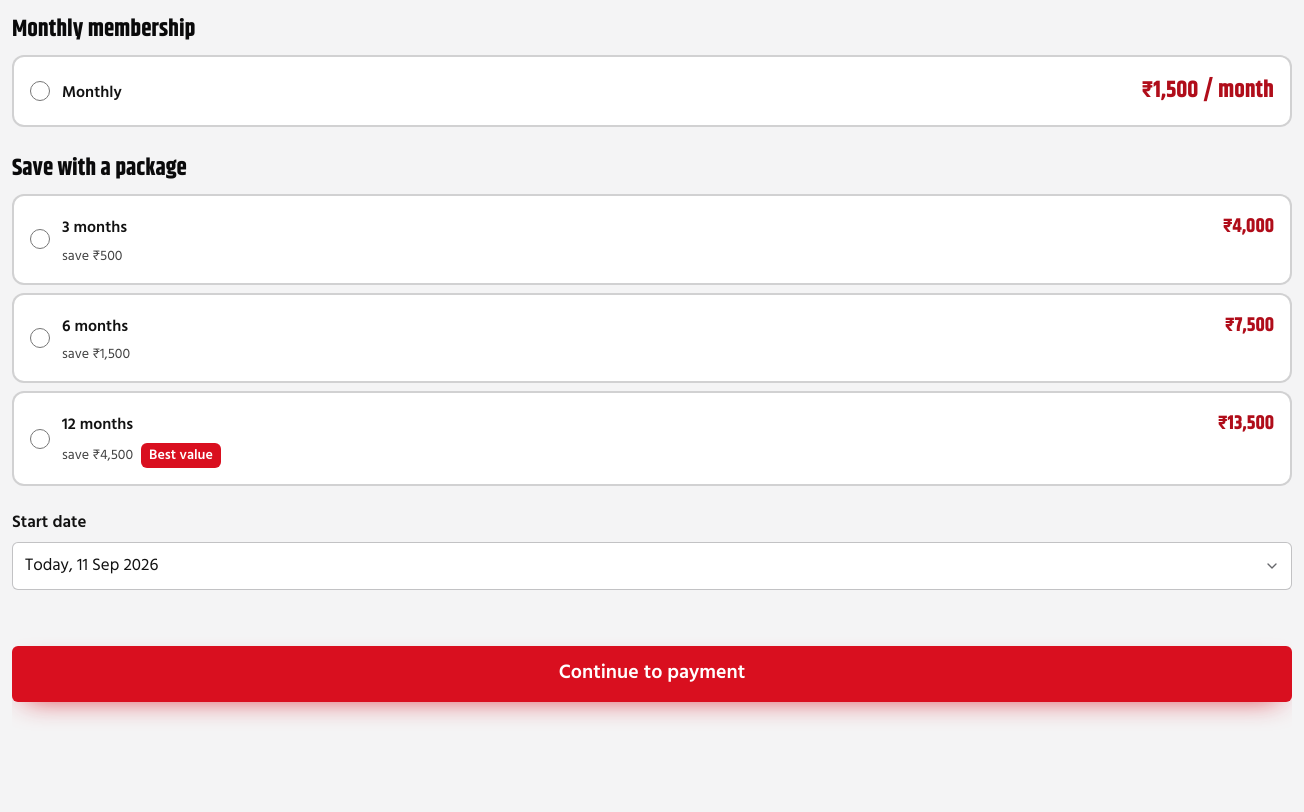
PlanStep › previews the end date by the membership rules as plan and start date change
Click the radio button labelled "Monthly ₹1,500 / month".
click(40, 91)  # box [30,81,50,101]
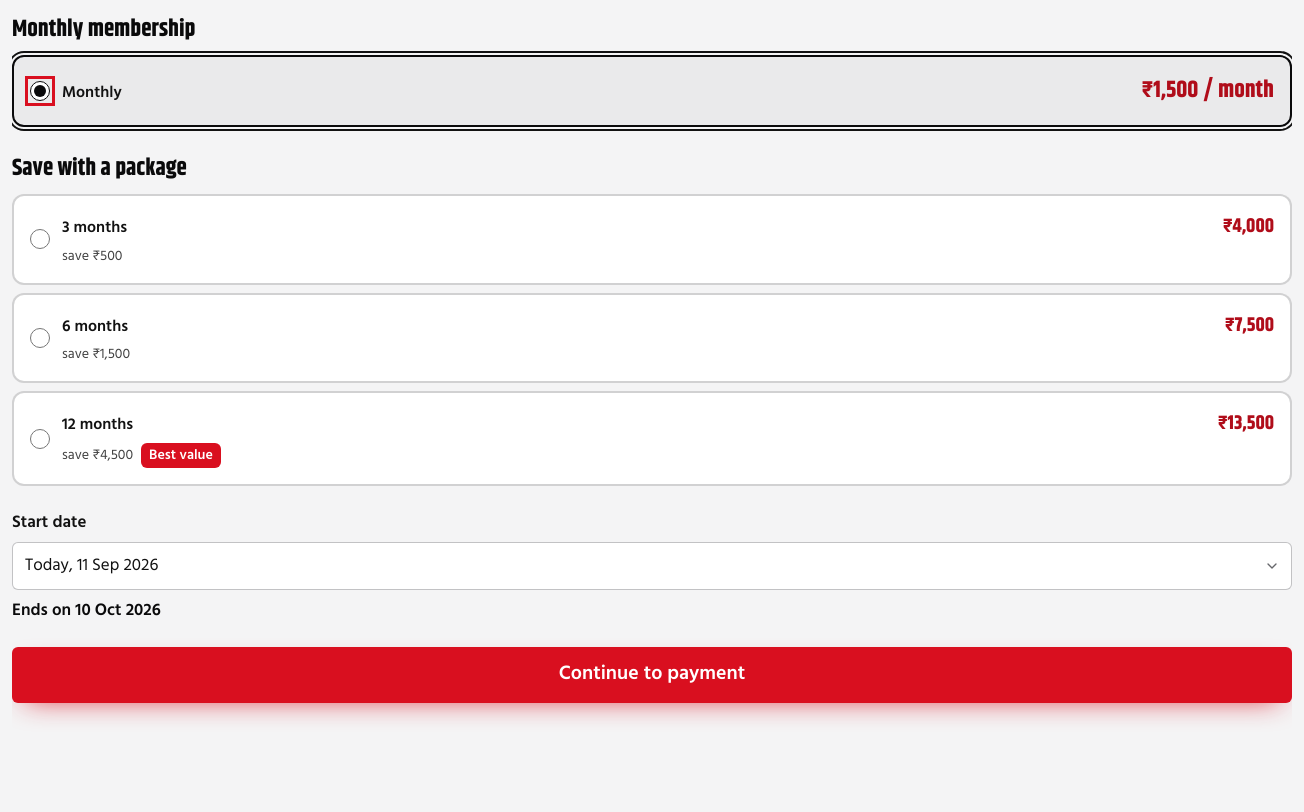
Expected: the text "Ends on 10 Oct 2026" is shown, [12,596,161,624]
Click the radio button labelled "3 months ₹4,000 save ₹500".
click(40, 239)  # box [30,229,50,249]
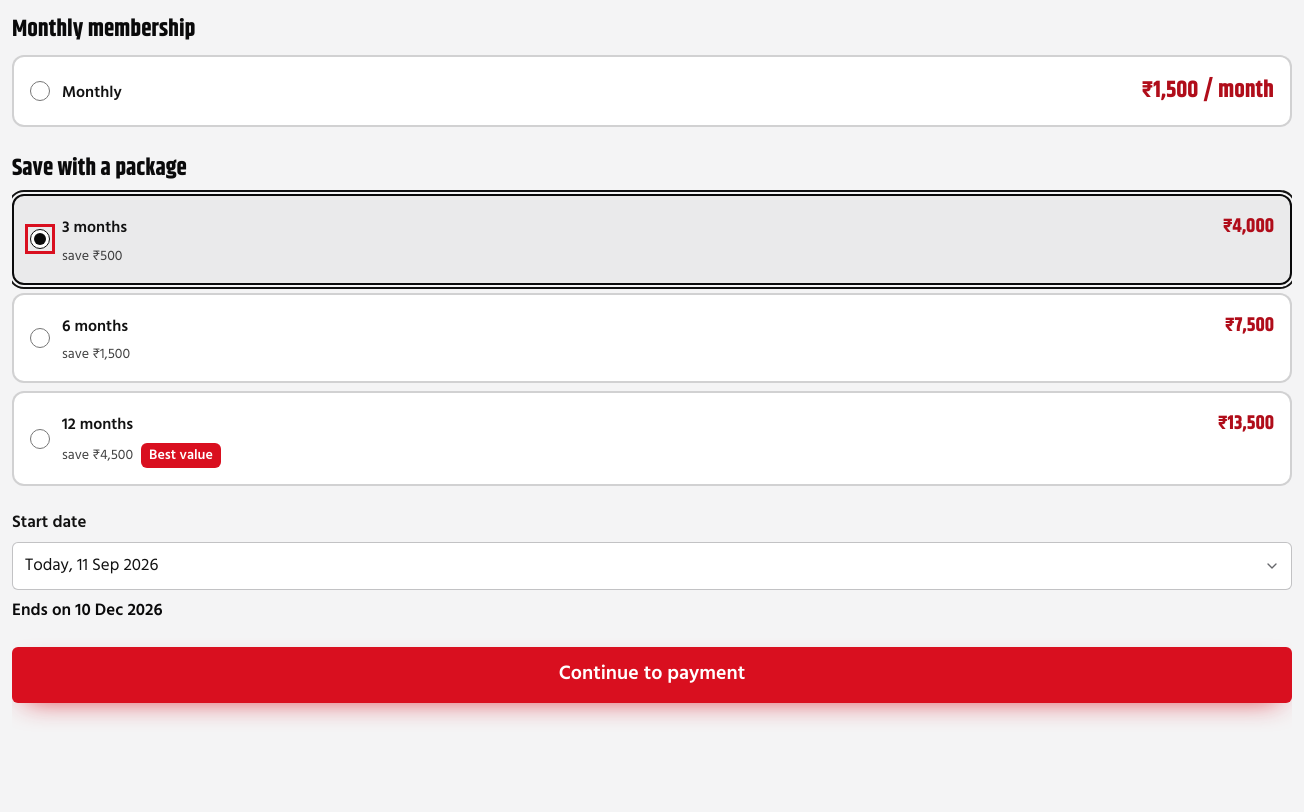
Select "15 Sep 2026" in the dropdown labelled "Start date" at point(652, 566), box [12,542,1292,590]
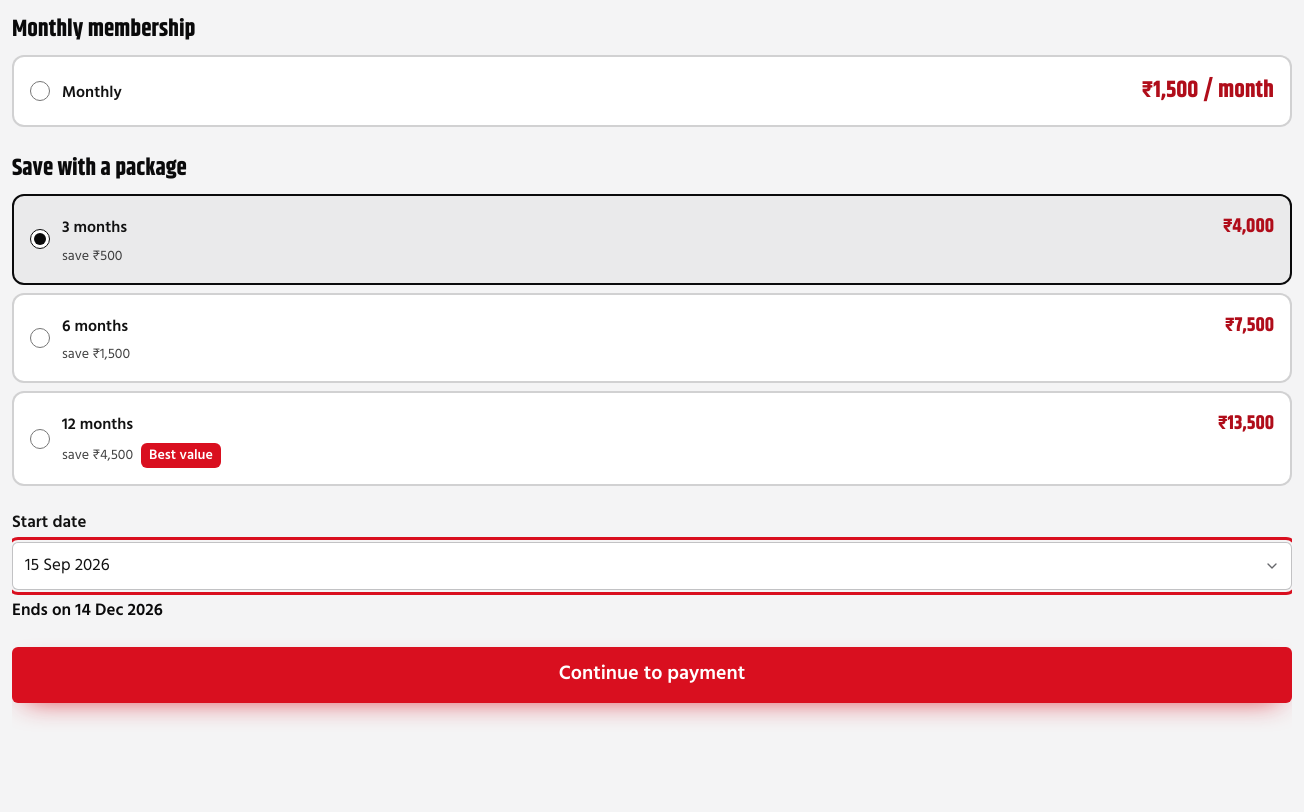
Expected: the text "Ends on 14 Dec 2026" is shown, [12,596,163,624]
